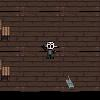Jason: (40, 38, 60, 61)
Win: (61, 73, 79, 92)
